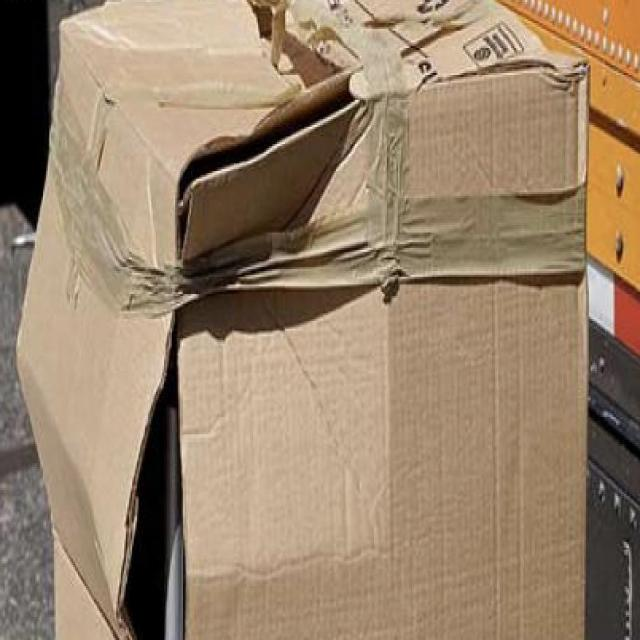damaged: (116, 317, 194, 640)
